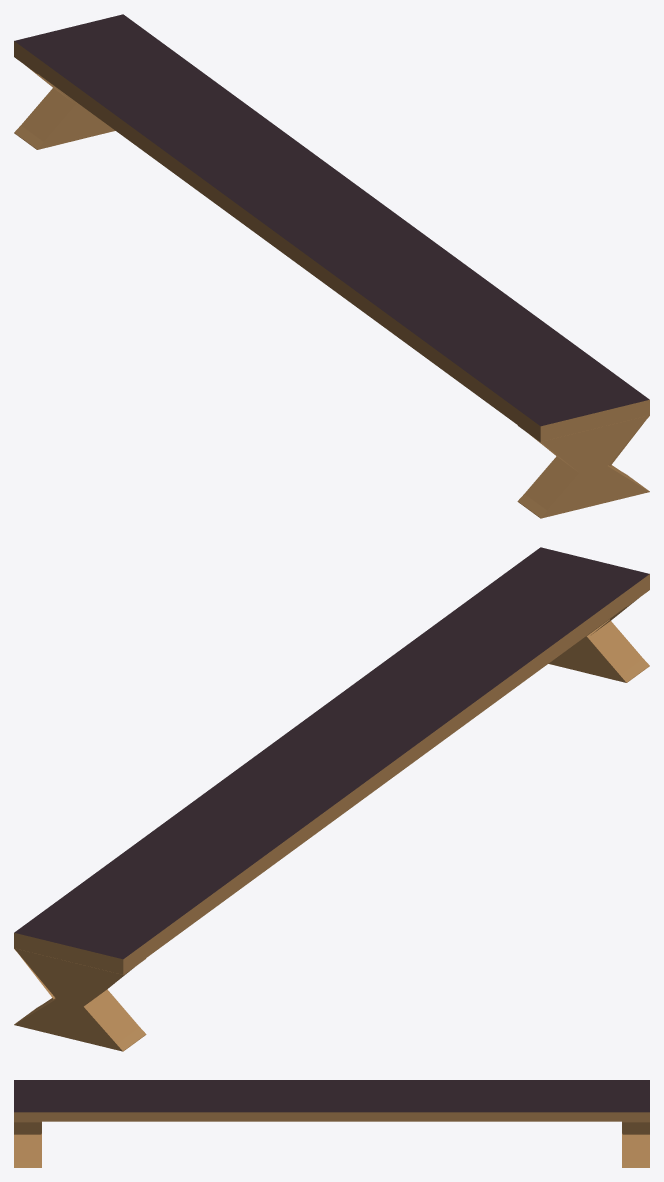
File: LCbanco.fbx
The picture shows the model from 3 angles, top to bottom: view 1: azimuth 30°, elevation 25°; view 2: azimuth 150°, elevation 25°; view 3: azimuth 270°, elevation 25°; orthographic projection. The views are drawn at different scales.
Visible parts, largest first — view 1: Cube.058; view 2: Cube.058; view 3: Cube.058.
Boxes of the visible parts, left/top/right/bottom form: Cube.058: left=14, top=14, right=649, bottom=518; Cube.058: left=14, top=547, right=649, bottom=1051; Cube.058: left=14, top=1080, right=649, bottom=1167.
Size of the model in its own units: 174 by 141 by 1454.
